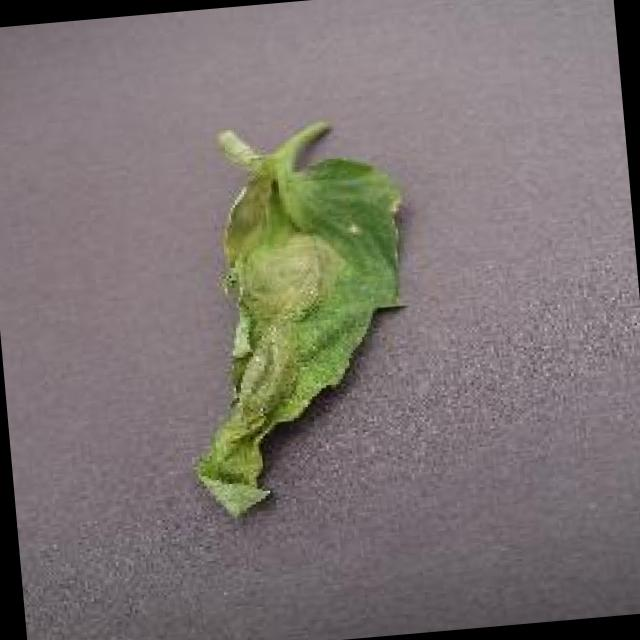Tomato_Late_Blight: (203, 164, 354, 451)
